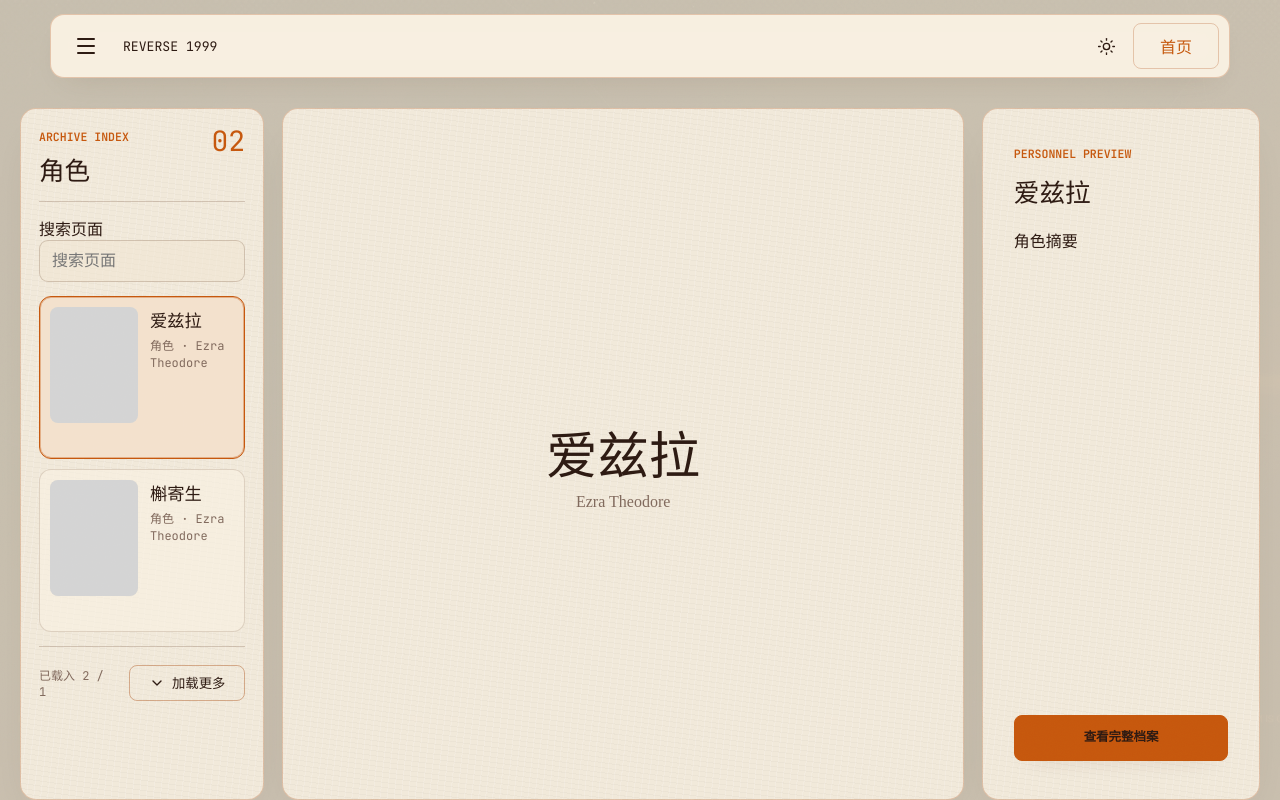
Scenario: WikiShell › appends opaque cursor pages without duplicate page IDs
Click the button with aria-label "加载更多档案".
click(187, 682)  # box [129,664,245,700]
(page scrolled)
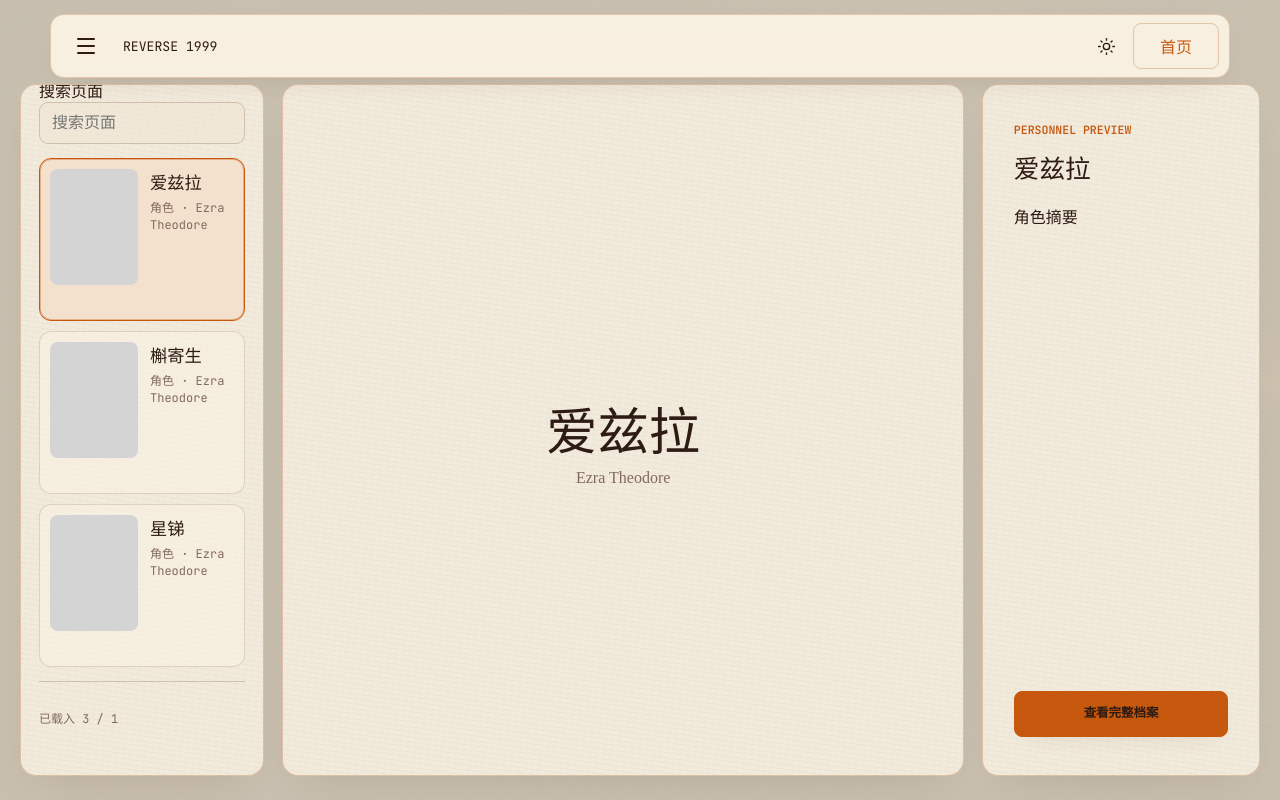
Result: the button "星锑 角色 · Ezra Theodore" is shown at [39,504,245,667]
Result: the number of buttons "槲寄生 角色 · Ezra Theodore" is 1 at [39,331,245,494]
